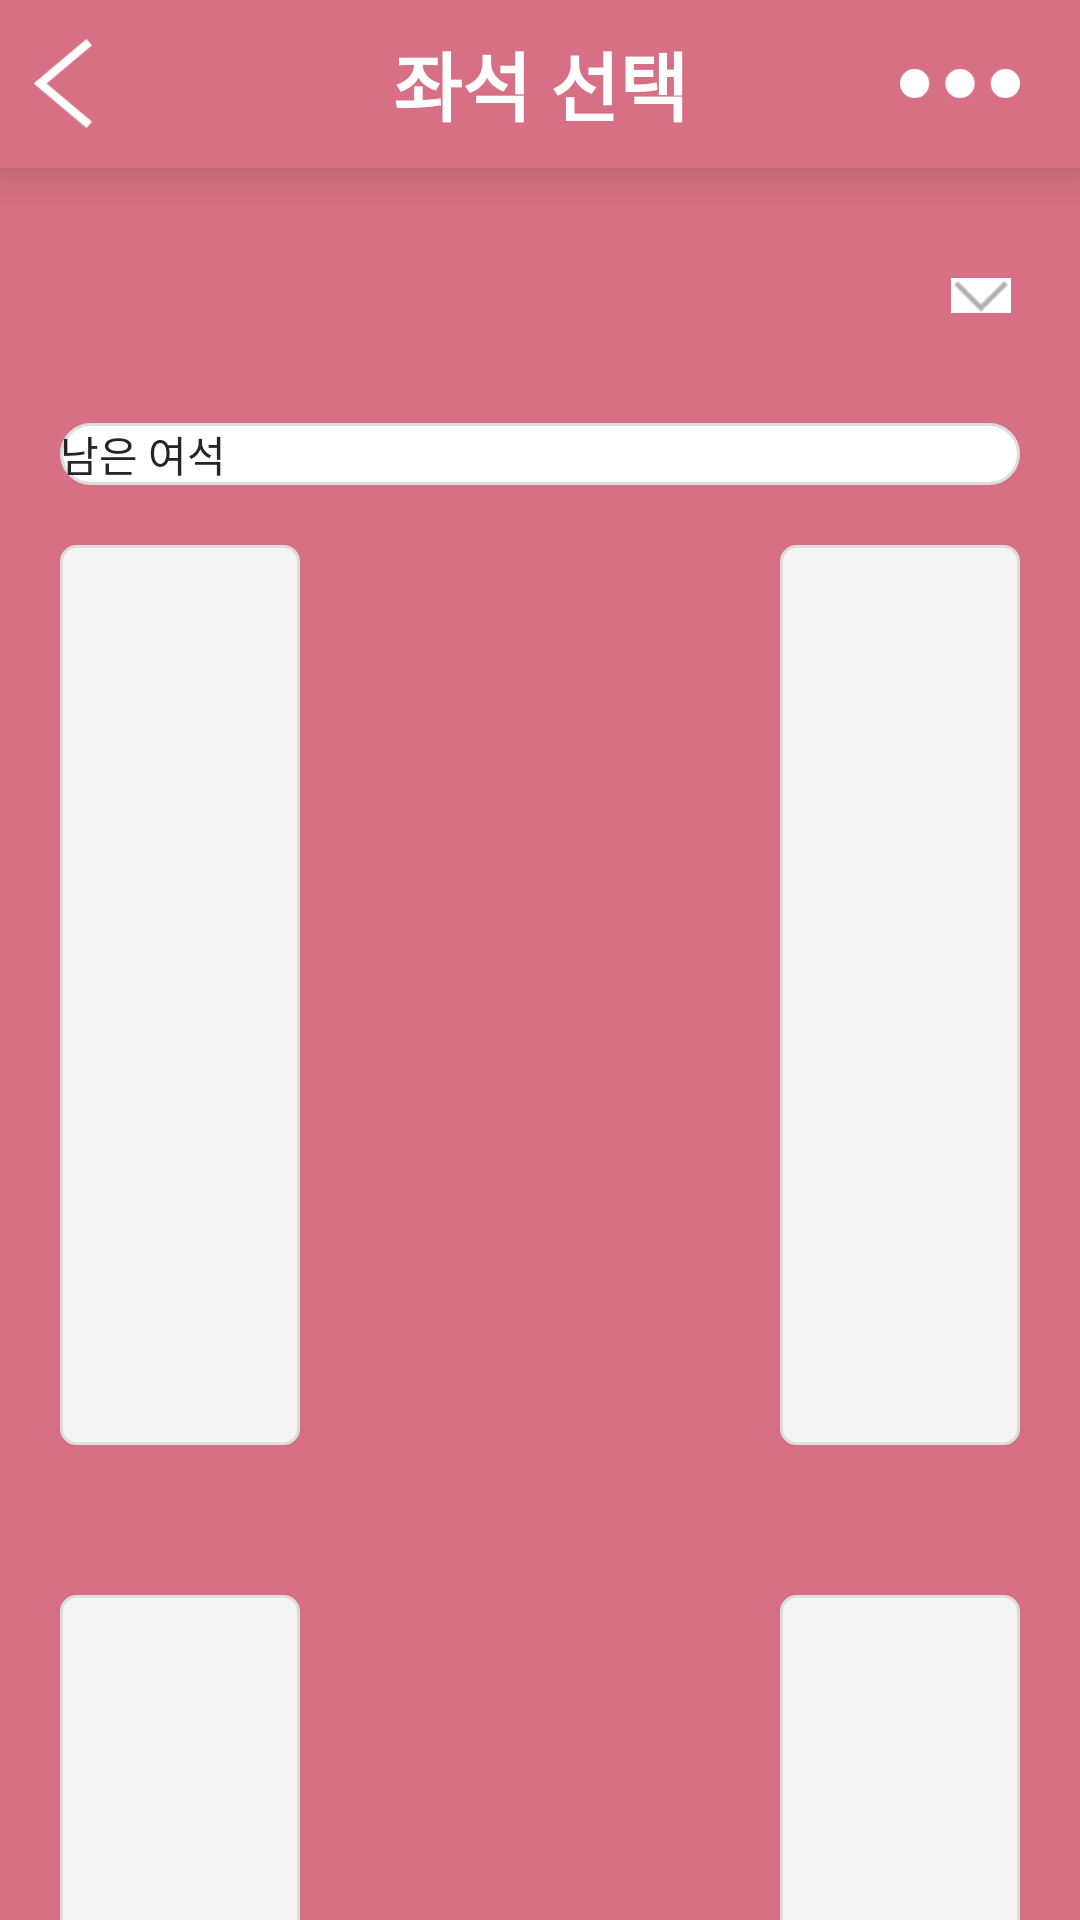

Icons on this 1080px×1920px Android screen, each with the point to tap as (x,y):
arrow down: (981,295)
back: (63,83)
dot: (960,83)
